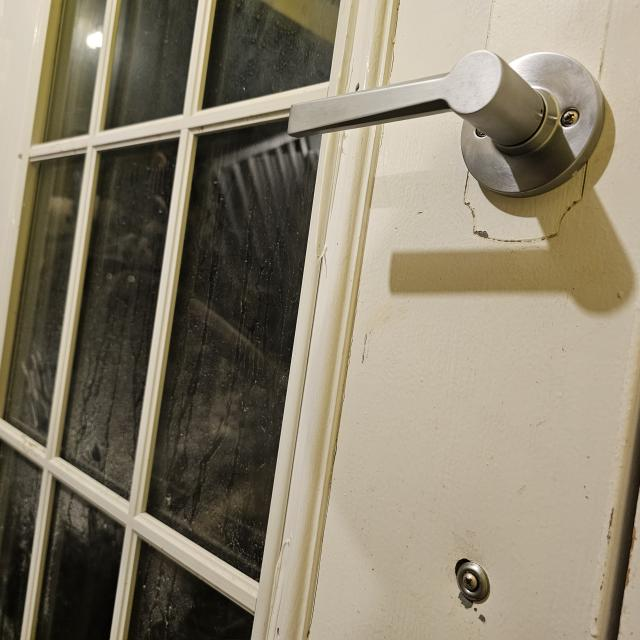door-handle: (289, 50, 604, 198)
